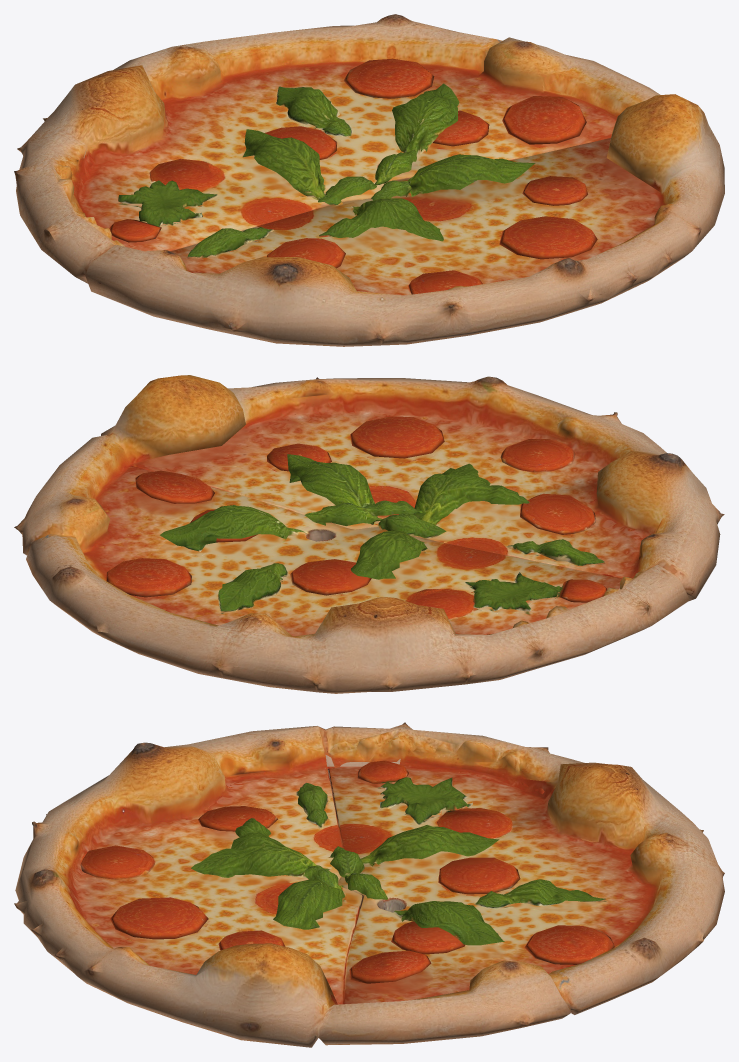
File: bruzzo-special.glb
3 views of the same model, one above another, from view 1: azimuth 30°, elevation 25°; view 2: azimuth 150°, elevation 25°; view 3: azimuth 270°, elevation 25° (orthographic). The views are drawn at different scales.
Parts seen in each view (by area): view 1: tripo_node_57ae0ffb-2082-478c-b3b3-d3c59c91acd9; view 2: tripo_node_57ae0ffb-2082-478c-b3b3-d3c59c91acd9; view 3: tripo_node_57ae0ffb-2082-478c-b3b3-d3c59c91acd9.
Part boxes in pixels (box(x1,y1,x2,y2)): tripo_node_57ae0ffb-2082-478c-b3b3-d3c59c91acd9: box(14, 14, 724, 346); tripo_node_57ae0ffb-2082-478c-b3b3-d3c59c91acd9: box(14, 375, 724, 693); tripo_node_57ae0ffb-2082-478c-b3b3-d3c59c91acd9: box(14, 722, 724, 1047).
Size of the model in its own units: 0.998 by 0.127 by 0.998.
Materials: 1 (1 with a texture image).
